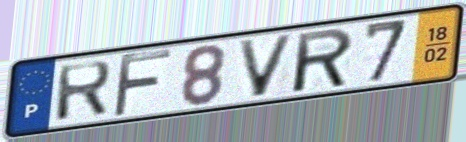7: (362, 17, 410, 85)
8: (180, 42, 229, 107)
F: (109, 47, 175, 120)
R: (292, 25, 356, 95), (53, 58, 115, 124)
V: (235, 32, 298, 100)
